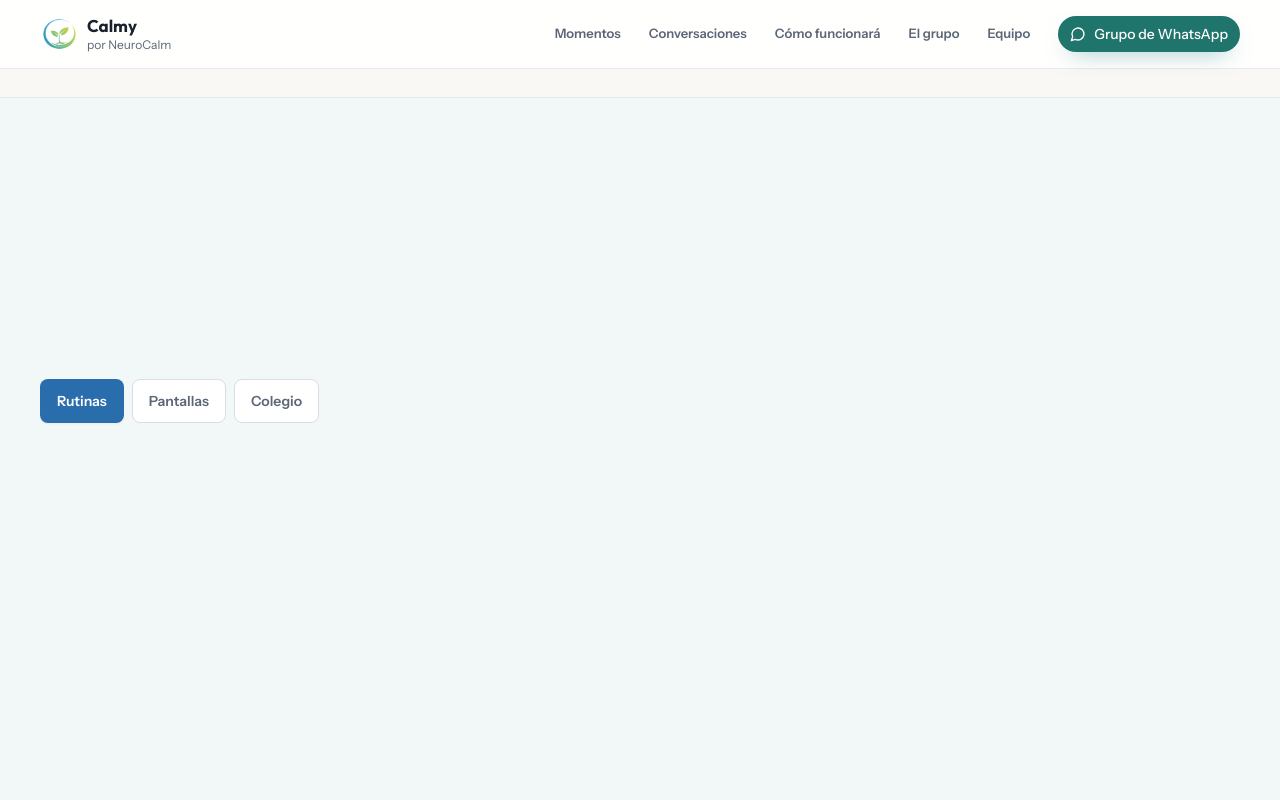
Calmy landing › lets visitors explore three contextual chat examples
The width and height of the screenshot is (1280, 800).
(page scrolled)
Press the mouse on the tab "Pantallas" at coordinates (179, 401), box [132,379,226,423]
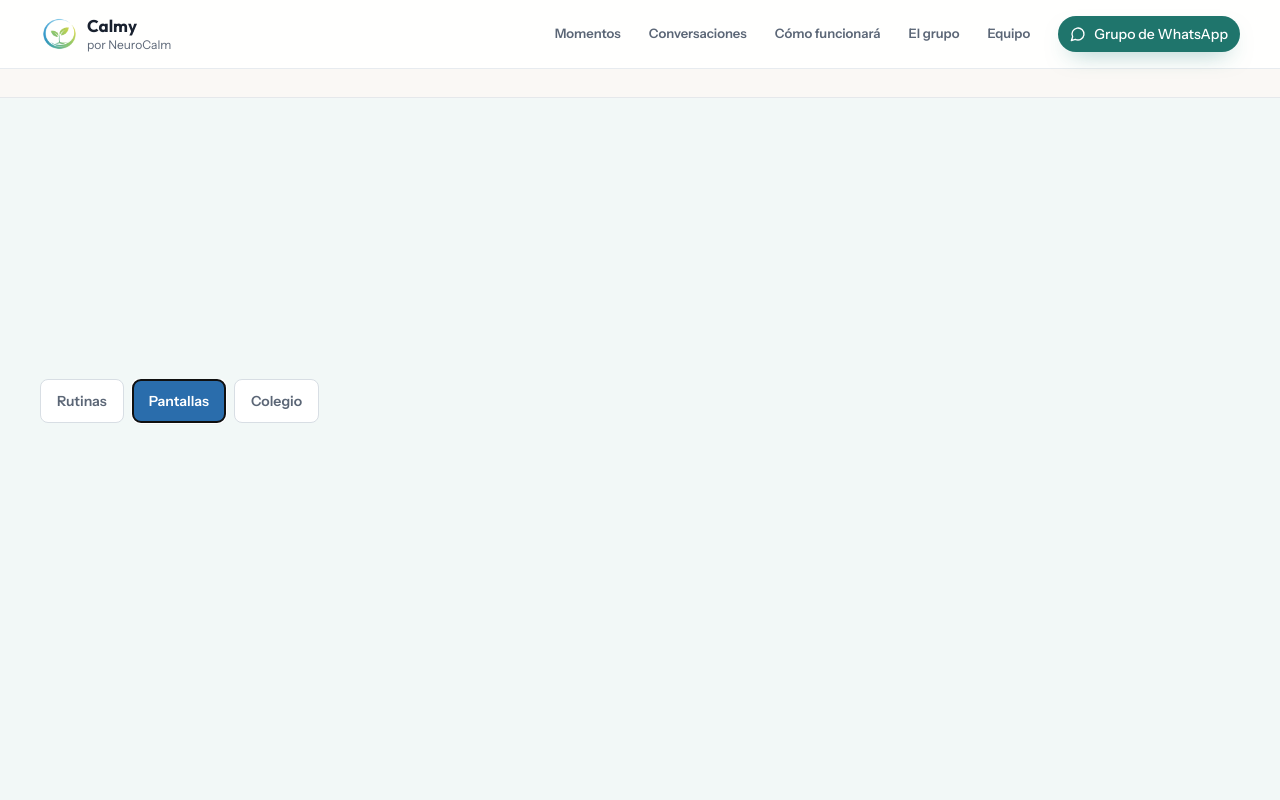
Expected: the tab "Pantallas" has attribute data-state="active", [132,379,226,423]
Press the mouse on the tab "Colegio" at coordinates (276, 401), box [234,379,319,423]
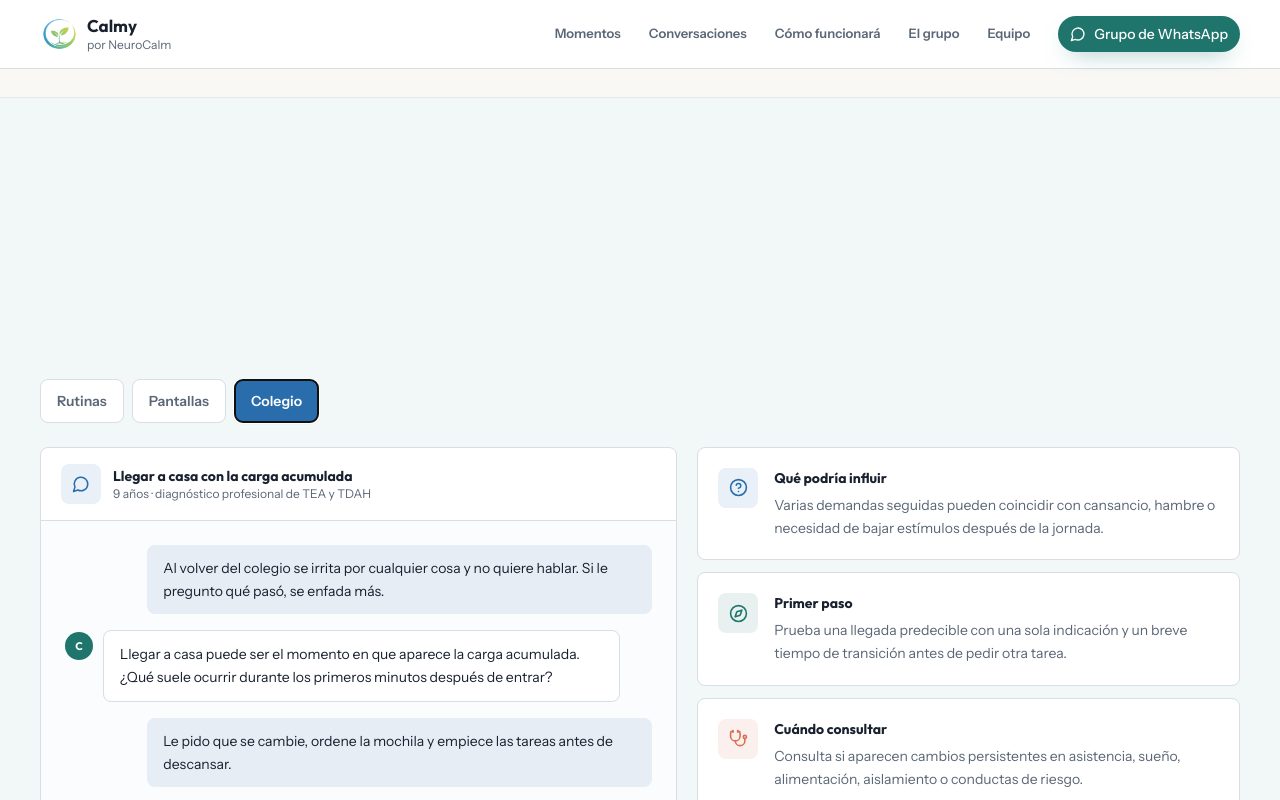
Expected: the text "Llegar a casa con la carga acumulada" is shown, [113,466,371,486]
Expected: the text "breve tiempo de transición" is shown, [774,621,1187,662]
